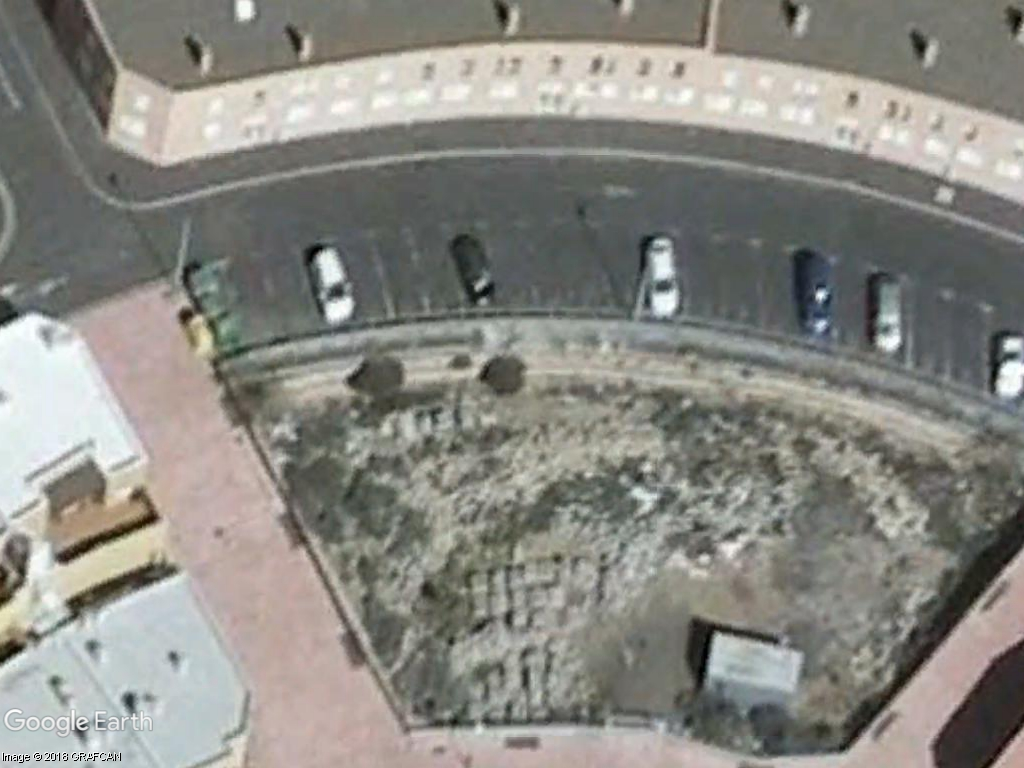car: (789, 244, 844, 342), (635, 227, 687, 321), (303, 242, 357, 328), (449, 228, 501, 310), (867, 265, 909, 359)
